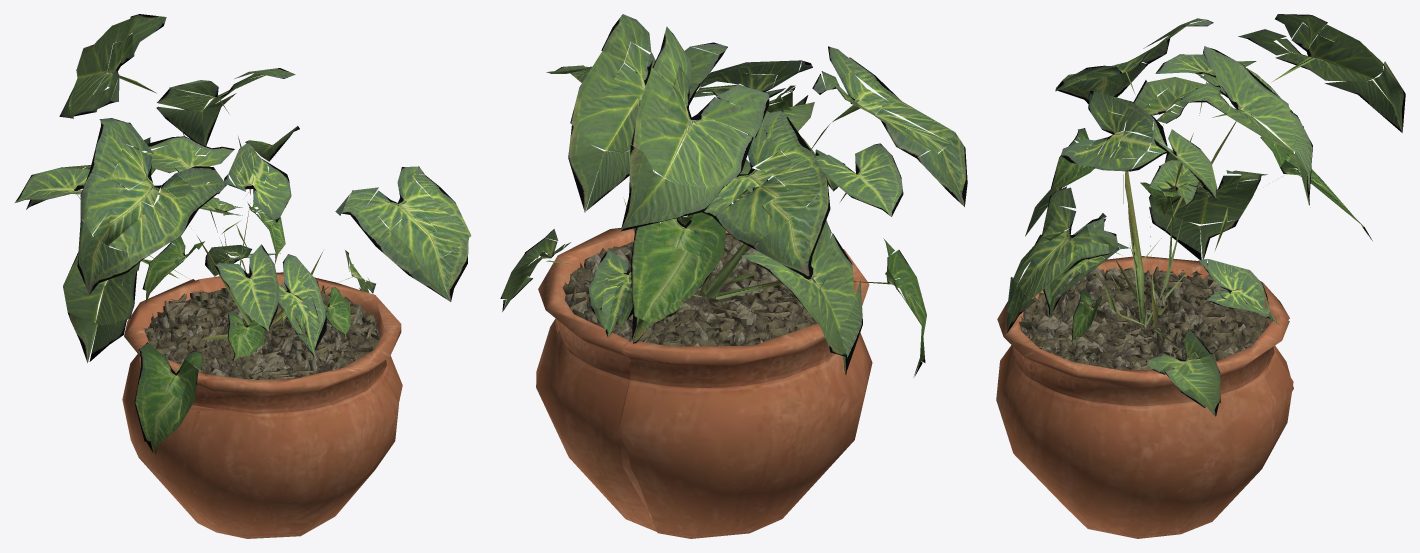
File: prop-potted-plant-5dfd416d1765.glb
3 renders of one model, left to right at view 1: azimuth 30°, elevation 25°; view 2: azimuth 150°, elevation 25°; view 3: azimuth 270°, elevation 25°, orthographic. The views are drawn at different scales.
Parts seen in each view (by area): view 1: ph_plant_potted_terracotta_b_part_1, ph_plant_potted_terracotta_b_part_2, ph_plant_potted_terracotta_b_part_0; view 2: ph_plant_potted_terracotta_b_part_1, ph_plant_potted_terracotta_b_part_2, ph_plant_potted_terracotta_b_part_0; view 3: ph_plant_potted_terracotta_b_part_1, ph_plant_potted_terracotta_b_part_2, ph_plant_potted_terracotta_b_part_0.
Boxes of the visible parts, left/top/right/bottom form: ph_plant_potted_terracotta_b_part_1: left=15, top=14, right=471, bottom=454; ph_plant_potted_terracotta_b_part_2: left=122, top=272, right=402, bottom=538; ph_plant_potted_terracotta_b_part_0: left=144, top=282, right=381, bottom=395; ph_plant_potted_terracotta_b_part_1: left=500, top=14, right=967, bottom=377; ph_plant_potted_terracotta_b_part_2: left=536, top=223, right=872, bottom=538; ph_plant_potted_terracotta_b_part_0: left=562, top=231, right=827, bottom=357; ph_plant_potted_terracotta_b_part_1: left=1006, top=14, right=1405, bottom=416; ph_plant_potted_terracotta_b_part_2: left=996, top=256, right=1293, bottom=538; ph_plant_potted_terracotta_b_part_0: left=1019, top=266, right=1272, bottom=375.
Bounding box in the file's own units: 0.6959 × 0.84 × 0.6561.
2 materials, 2 textured.
